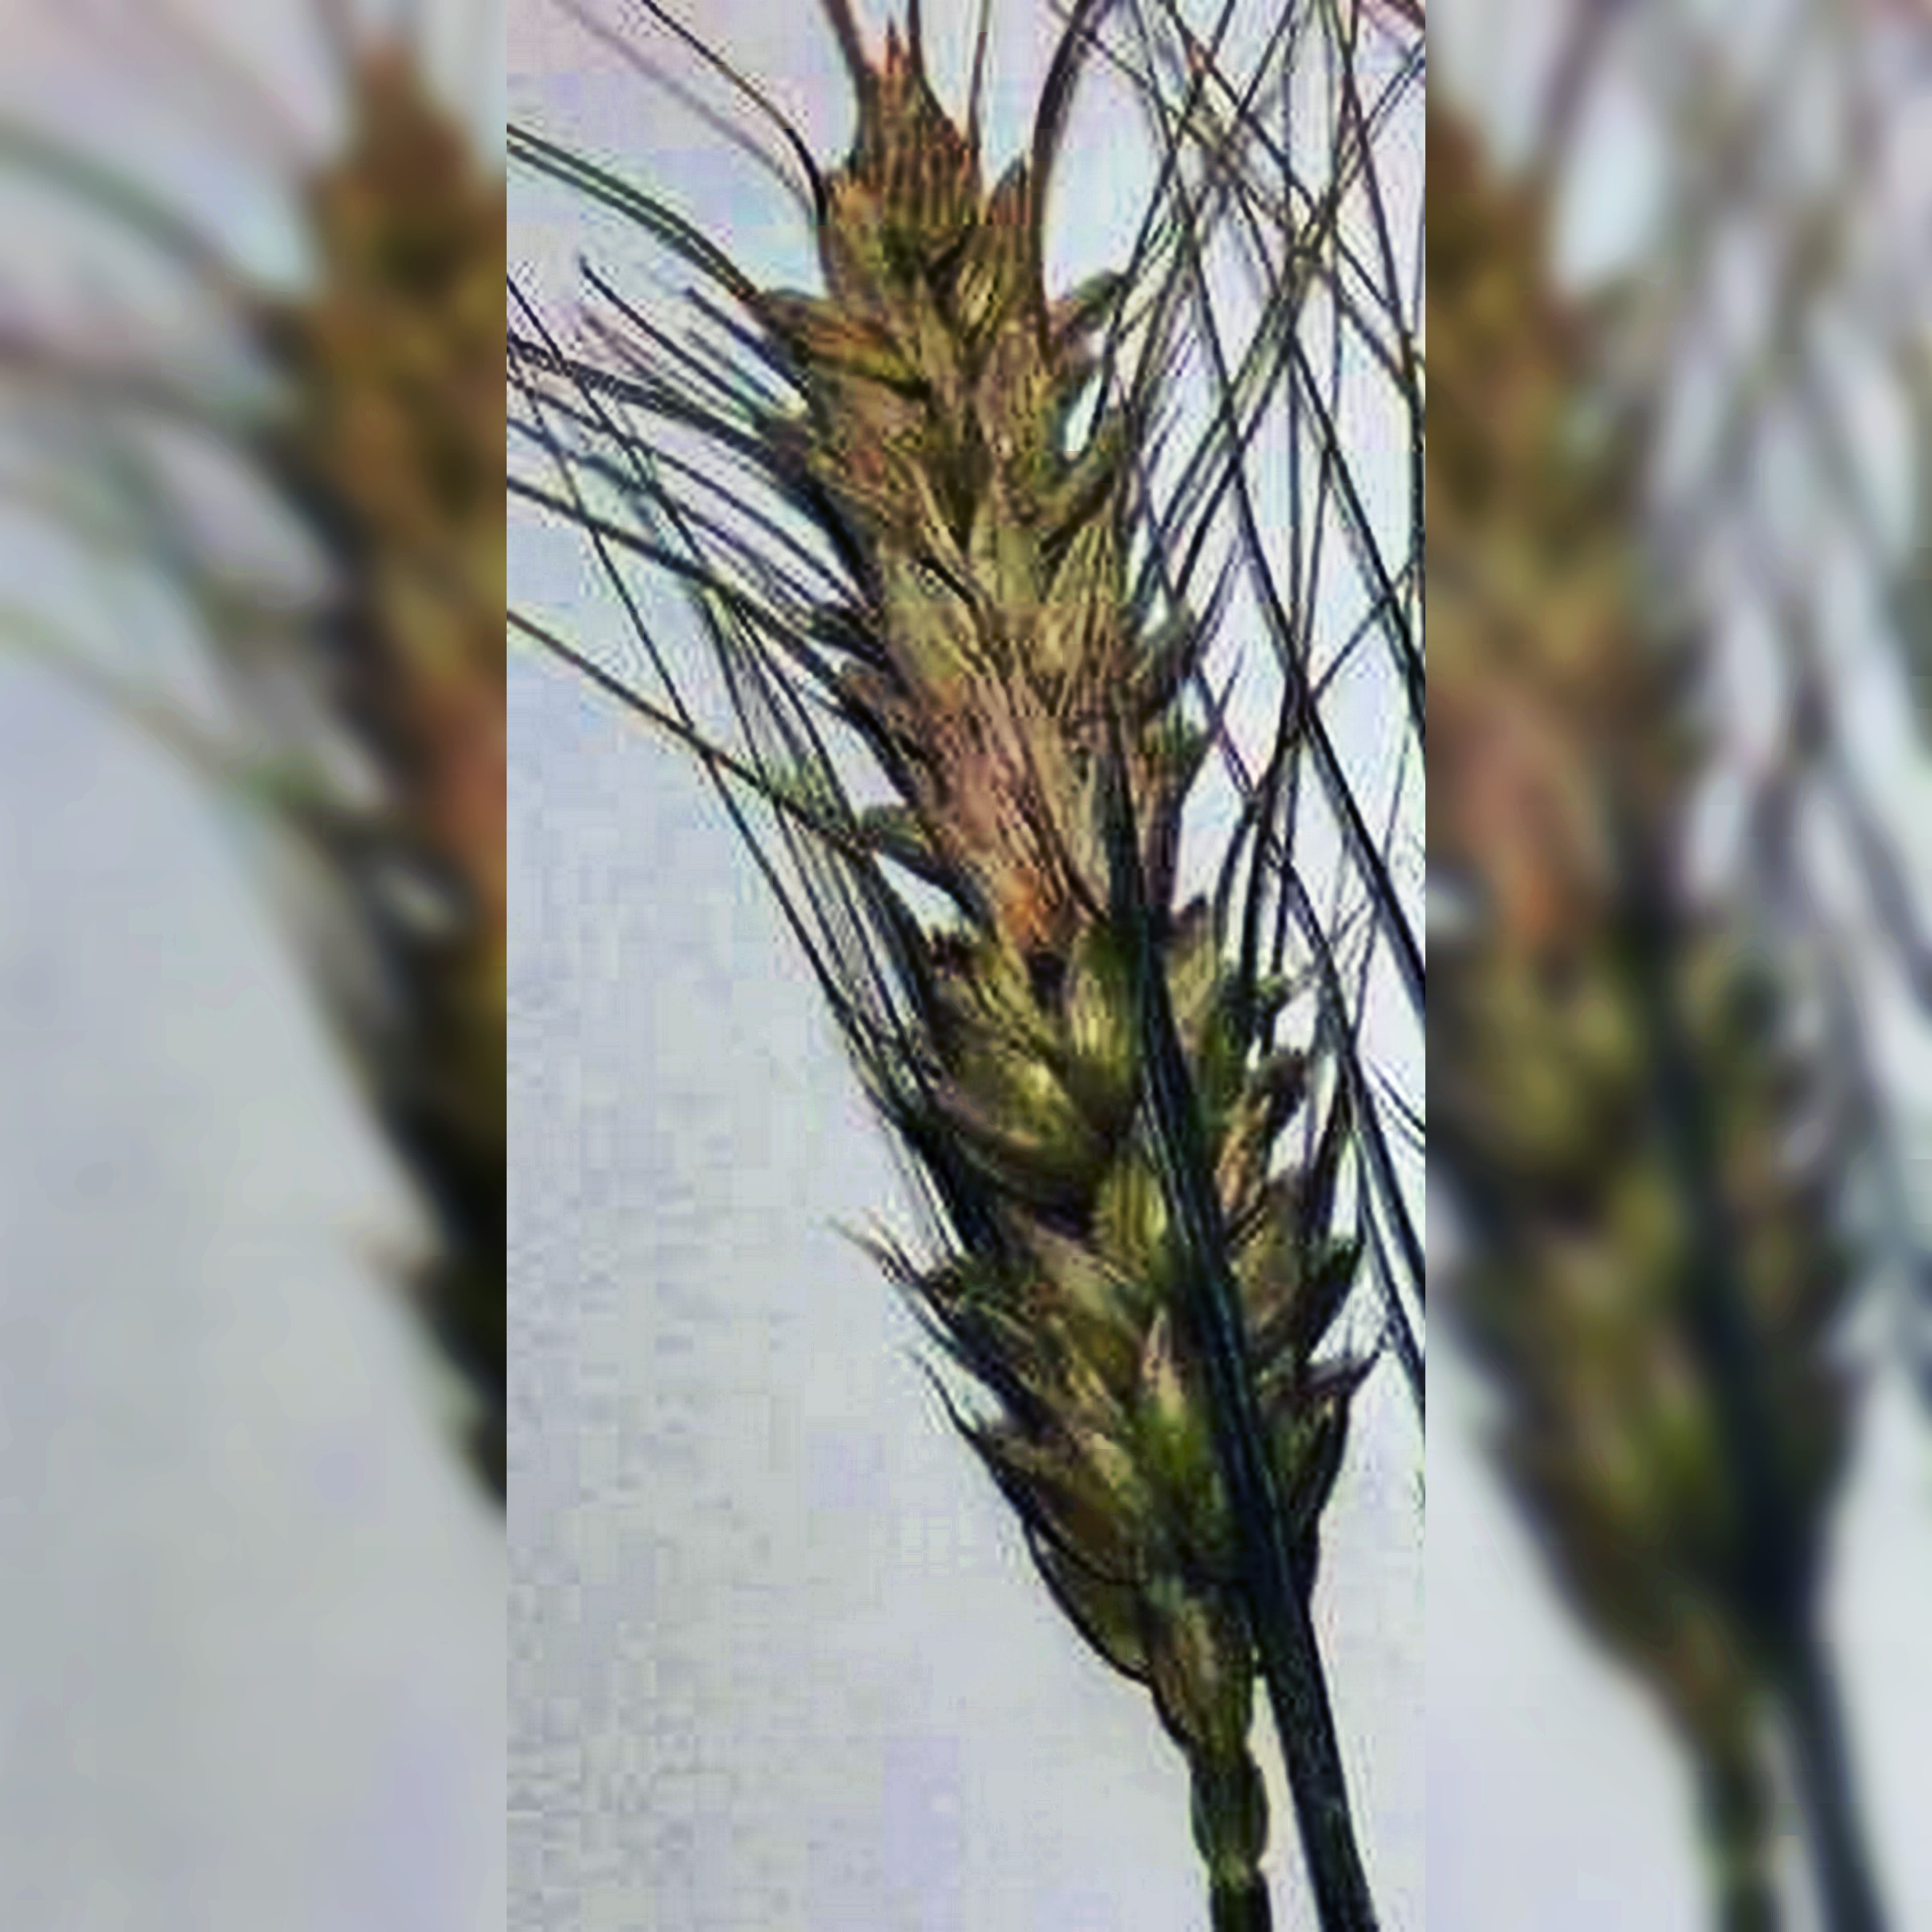Wheat scab: (701, 111, 1380, 1688)
